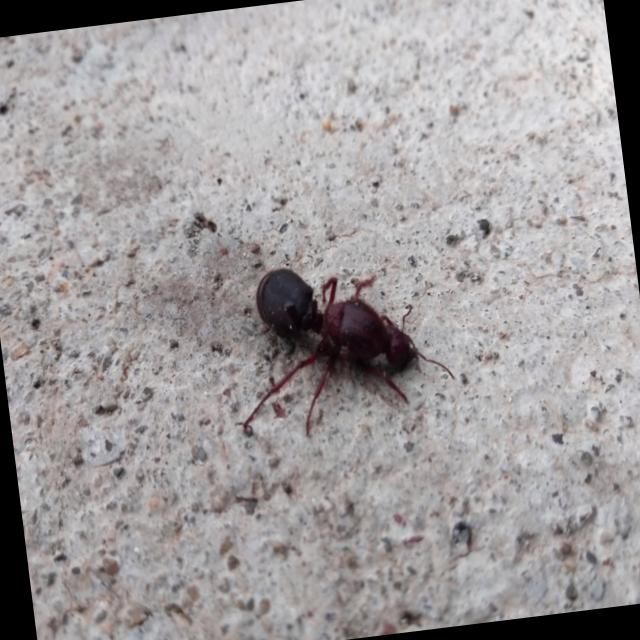Alive-Female-Dealate: (218, 248, 460, 444)
